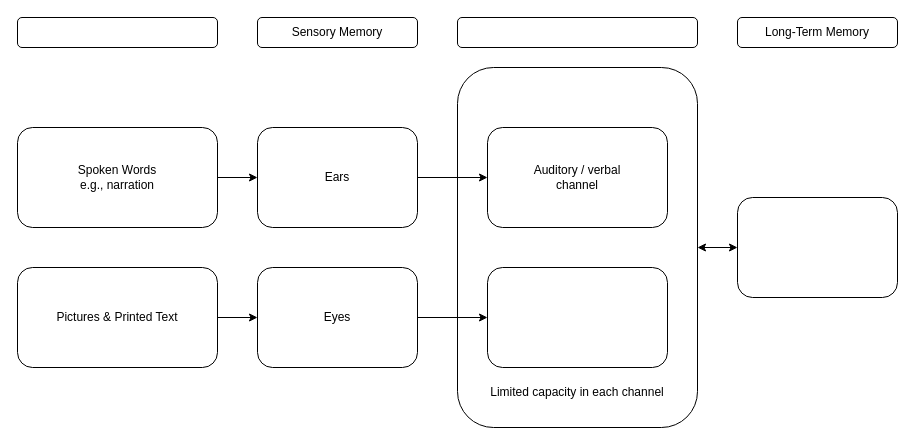
This 915x445 diagram has some shape labels left out. The shapes that lost their labels are listed below. From the top down, each one's centre as x and y in pixels, then its label:
pixel 117 32: Multimedia Presentation
pixel 577 32: Working Memory
pixel 817 247: Prior Knowledge
pixel 577 317: Visual / pictorial channel
